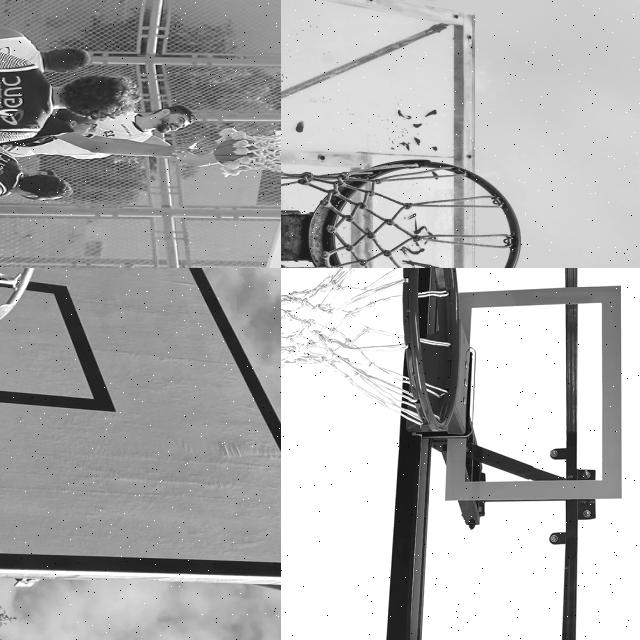backboard: (384, 268, 640, 640), (0, 268, 281, 583), (281, 0, 480, 268)
